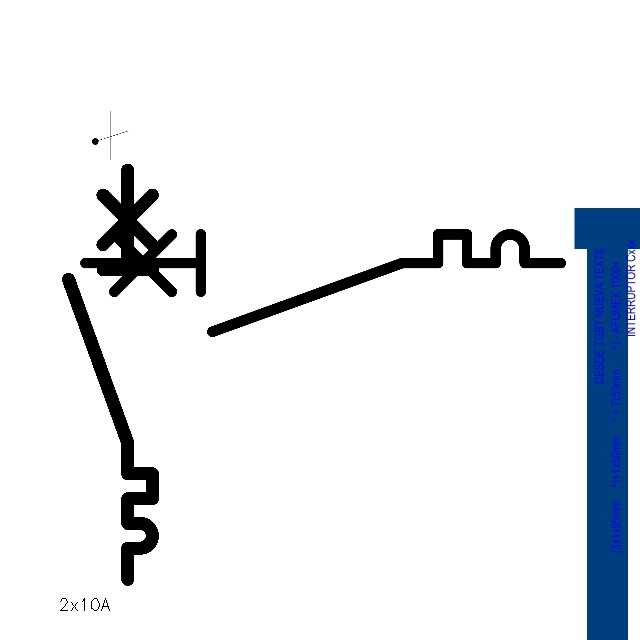interruptor_termomagnetico: (73, 222, 573, 344), (58, 159, 163, 590)
